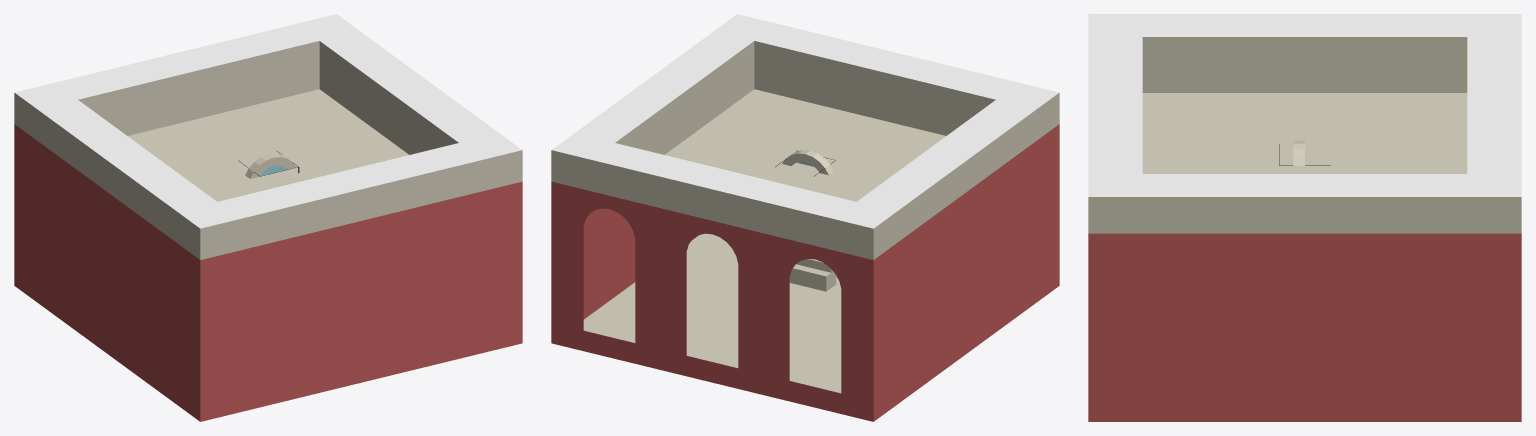
File: Building 64.FBX
3 views of the same model, side by side, from view 1: azimuth 30°, elevation 25°; view 2: azimuth 150°, elevation 25°; view 3: azimuth 270°, elevation 25° (orthographic). The views are drawn at different scales.
Parts seen in each view (by area): view 1: Group48; view 2: Group48, Group49; view 3: Group48.
Boxes of the visible parts, x1,y1,x2,y2 form: Group48: (14,14,522,421); Group48: (551,14,1059,421); Group49: (784,150,831,291); Group48: (1088,14,1521,421).
Size of the model in its own units: 29.53 by 16.93 by 29.53.
